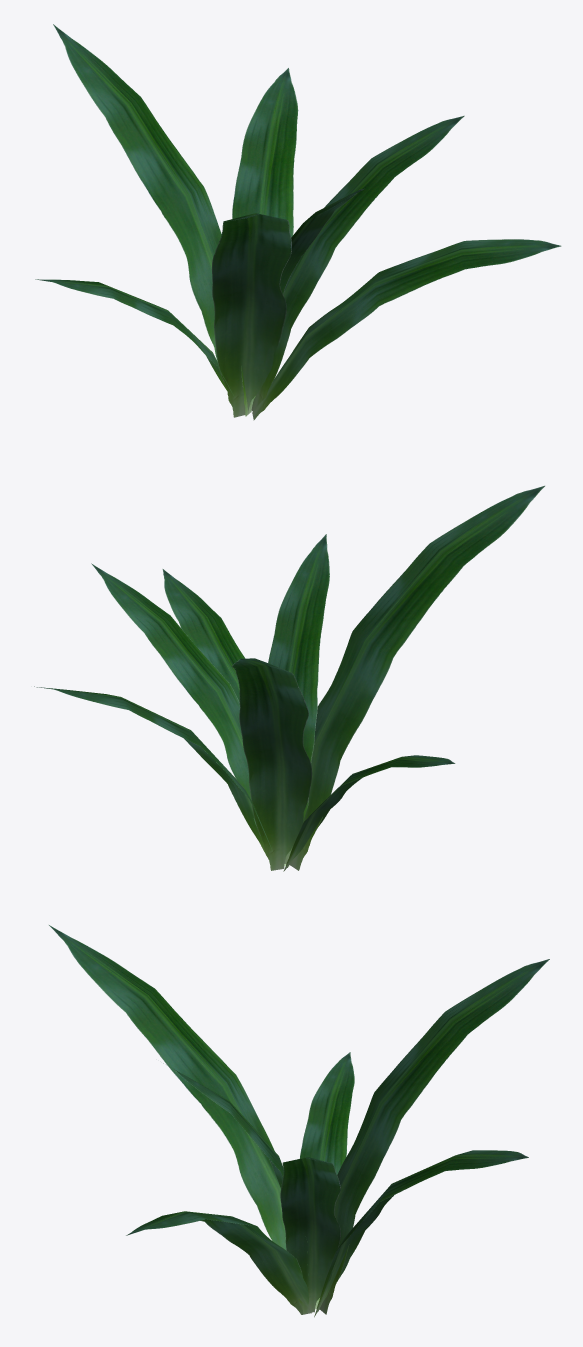
The model's file is Plant_04.FBX.
The picture shows the model from 3 angles, top to bottom: view 1: azimuth 30°, elevation 25°; view 2: azimuth 150°, elevation 25°; view 3: azimuth 270°, elevation 25°; orthographic projection. The views are drawn at different scales.
Visible parts, largest first — view 1: Plant_04; view 2: Plant_04; view 3: Plant_04.
Part boxes in pixels (x1,y1,x2,y2): Plant_04: [35, 24, 561, 420]; Plant_04: [34, 485, 544, 871]; Plant_04: [49, 925, 549, 1317].
Bounding box in the file's own units: 1.08 × 0.7869 × 1.17.
